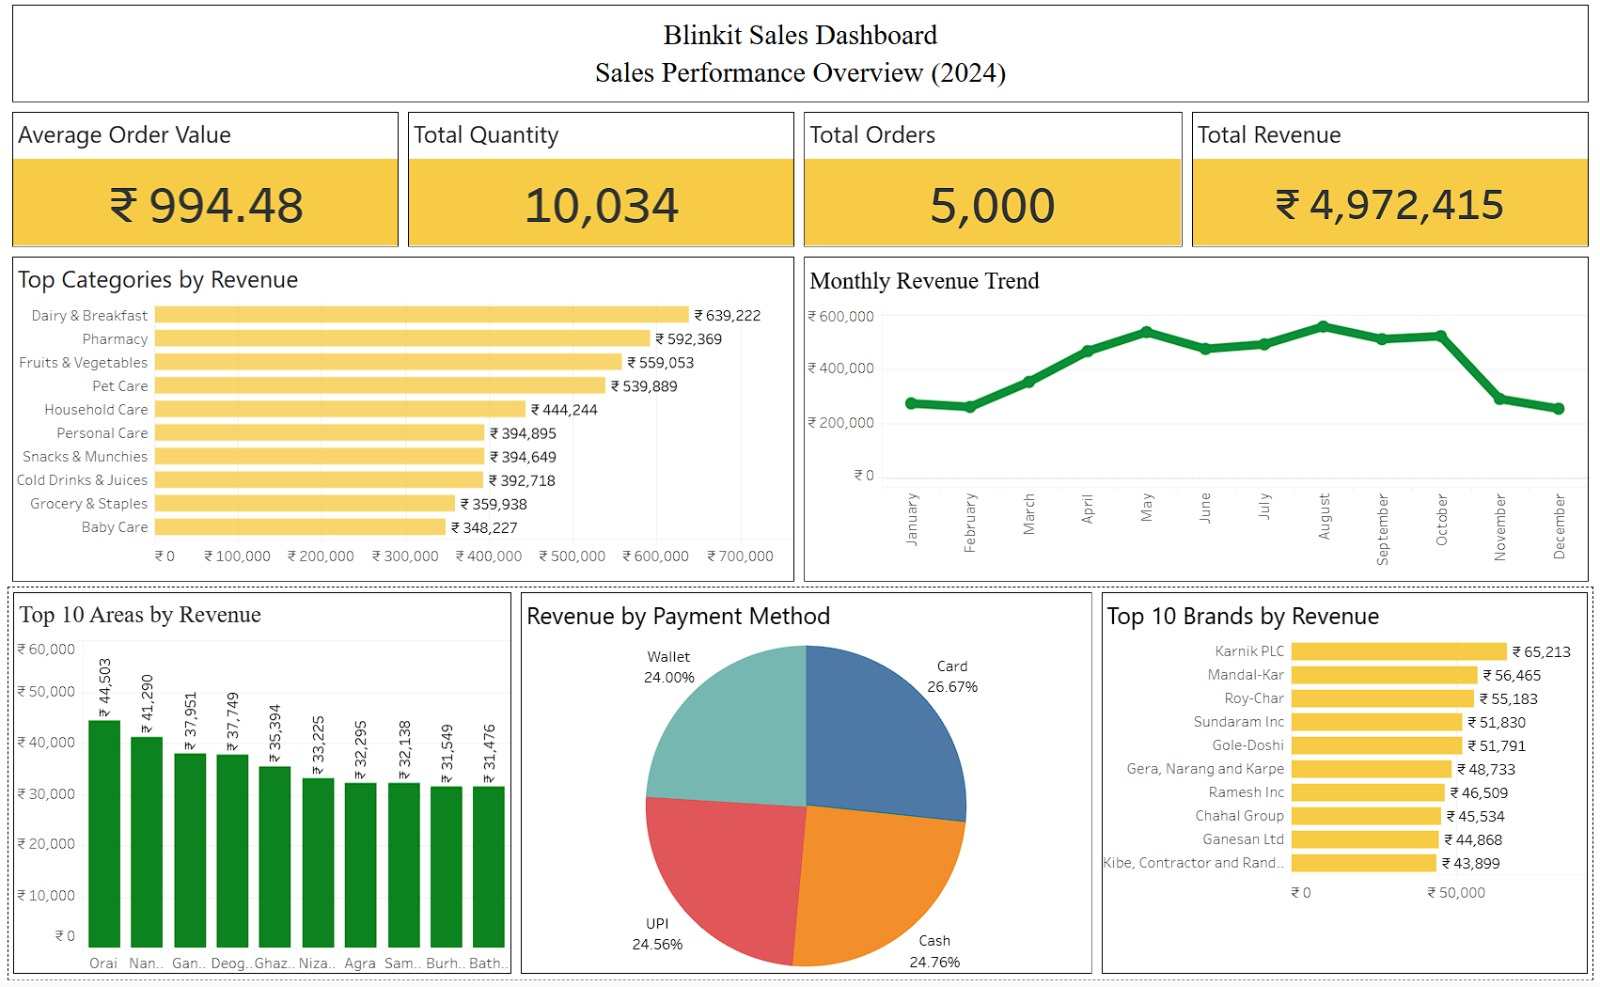

What the dashboard file says about the page in this screenshot:
{"tool":"tableau","page":{"name":"Dashboard 1","canvas":[1366,900],"ordinal":0},"visuals":[{"type":"title","box":[8,8,1350,91]},{"type":"worksheet","title":"KPI - Average Order Value","mark":"Automatic","box":[8,99,337,133.9]},{"type":"worksheet","title":"KPI - Total Quantity","mark":"Automatic","box":[345,99,337,133.9]},{"type":"worksheet","title":"KPI - Total Orders","mark":"Automatic","box":[682,99,330,133.9]},{"type":"worksheet","title":"KPI - Total Revenue","mark":"Automatic","box":[1012,99,346,133.9]},{"type":"worksheet","title":"Revenue by Category","mark":"Automatic","rows":["category"],"cols":["Calculation_2098161275707392"],"box":[8,232.9,674.4,311.8]},{"type":"worksheet","title":"Monthly Revenue Trend","mark":"Automatic","rows":["Calculation_2098161275707392"],"cols":["order_date"],"box":[682.5,232.9,675.5,311.8]},{"type":"worksheet","title":"Sheet 9","mark":"Automatic","rows":["Calculation_2098161275707392"],"cols":["area"],"box":[9,545.7,432,345.3]},{"type":"worksheet","title":"Payment Method Distribution.","mark":"Pie","box":[441,545.7,494,345.3]},{"type":"worksheet","title":"Revenue by Brand","mark":"Automatic","rows":["brand"],"cols":["Calculation_2098161275707392"],"box":[935,545.7,422,345.3]}]}

Visuals, with their boxes in screenshot pixels (x1, y1, x2, y2):
title: [x1=125, y1=4, x2=1586, y2=103]
"KPI - Average Order Value" worksheet: [x1=125, y1=103, x2=490, y2=248]
"KPI - Total Quantity" worksheet: [x1=490, y1=103, x2=855, y2=248]
"KPI - Total Orders" worksheet: [x1=855, y1=103, x2=1212, y2=248]
"KPI - Total Revenue" worksheet: [x1=1212, y1=103, x2=1586, y2=248]
"Revenue by Category" worksheet: [x1=125, y1=248, x2=855, y2=585]
"Monthly Revenue Trend" worksheet: [x1=855, y1=248, x2=1586, y2=585]
"Sheet 9" worksheet: [x1=126, y1=586, x2=594, y2=960]
"Payment Method Distribution." worksheet (Pie marks): [x1=594, y1=586, x2=1128, y2=960]
"Revenue by Brand" worksheet: [x1=1128, y1=586, x2=1585, y2=960]
